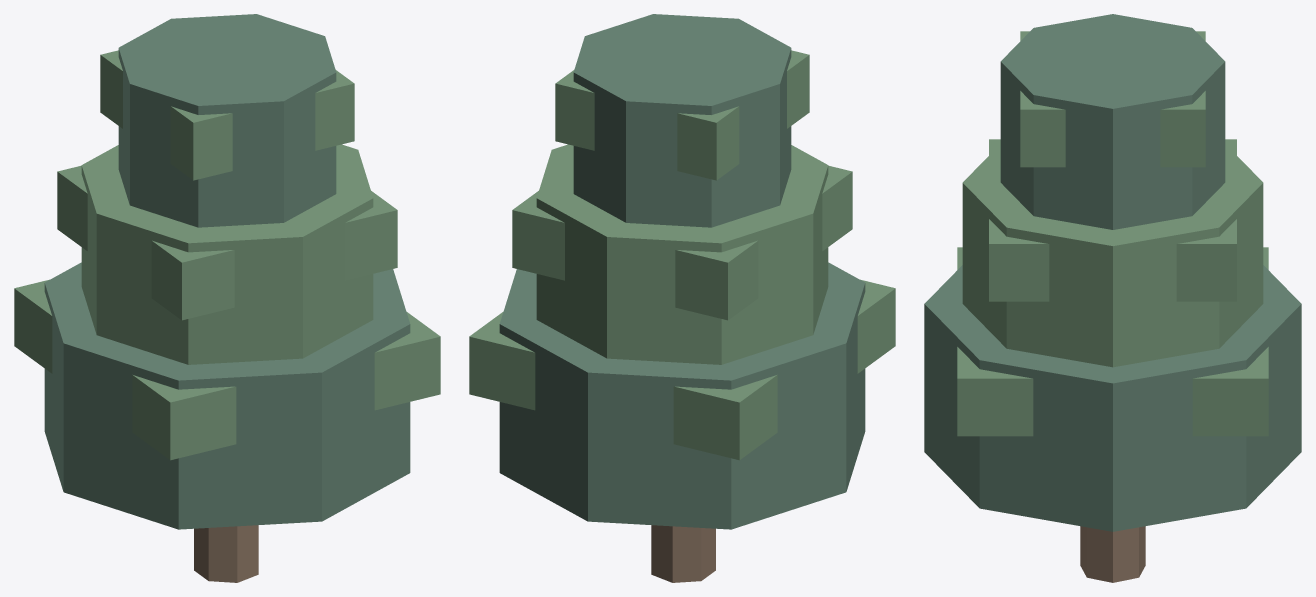
File: pinheiro_grande.glb
The picture shows the model from 3 angles, left to right: view 1: azimuth 30°, elevation 25°; view 2: azimuth 150°, elevation 25°; view 3: azimuth 270°, elevation 25°; orthographic projection.
Parts seen in each view (by area): view 1: part_001, part_005, part_003, part_002, part_004, part_006, part_000; view 2: part_001, part_005, part_003, part_002, part_004, part_006, part_000; view 3: part_001, part_005, part_003, part_002, part_004, part_006, part_000.
Boxes of the visible parts, bbox=[...] form: part_001: bbox=[44, 262, 410, 529]; part_005: bbox=[118, 14, 336, 227]; part_003: bbox=[81, 144, 373, 364]; part_002: bbox=[14, 279, 440, 460]; part_004: bbox=[57, 165, 397, 320]; part_006: bbox=[100, 50, 354, 180]; part_000: bbox=[194, 525, 258, 582]; part_001: bbox=[499, 262, 865, 529]; part_005: bbox=[573, 14, 791, 227]; part_003: bbox=[536, 144, 828, 364]; part_002: bbox=[469, 279, 895, 460]; part_004: bbox=[512, 165, 852, 320]; part_006: bbox=[555, 50, 809, 180]; part_000: bbox=[651, 525, 715, 582]; part_001: bbox=[924, 265, 1301, 531]; part_005: bbox=[1000, 14, 1225, 229]; part_003: bbox=[962, 144, 1263, 367]; part_002: bbox=[957, 247, 1268, 436]; part_004: bbox=[989, 139, 1236, 301]; part_006: bbox=[1020, 31, 1205, 167]; part_000: bbox=[1080, 526, 1145, 582].
Size of the model in its own units: 2.26 by 3.35 by 2.26.
